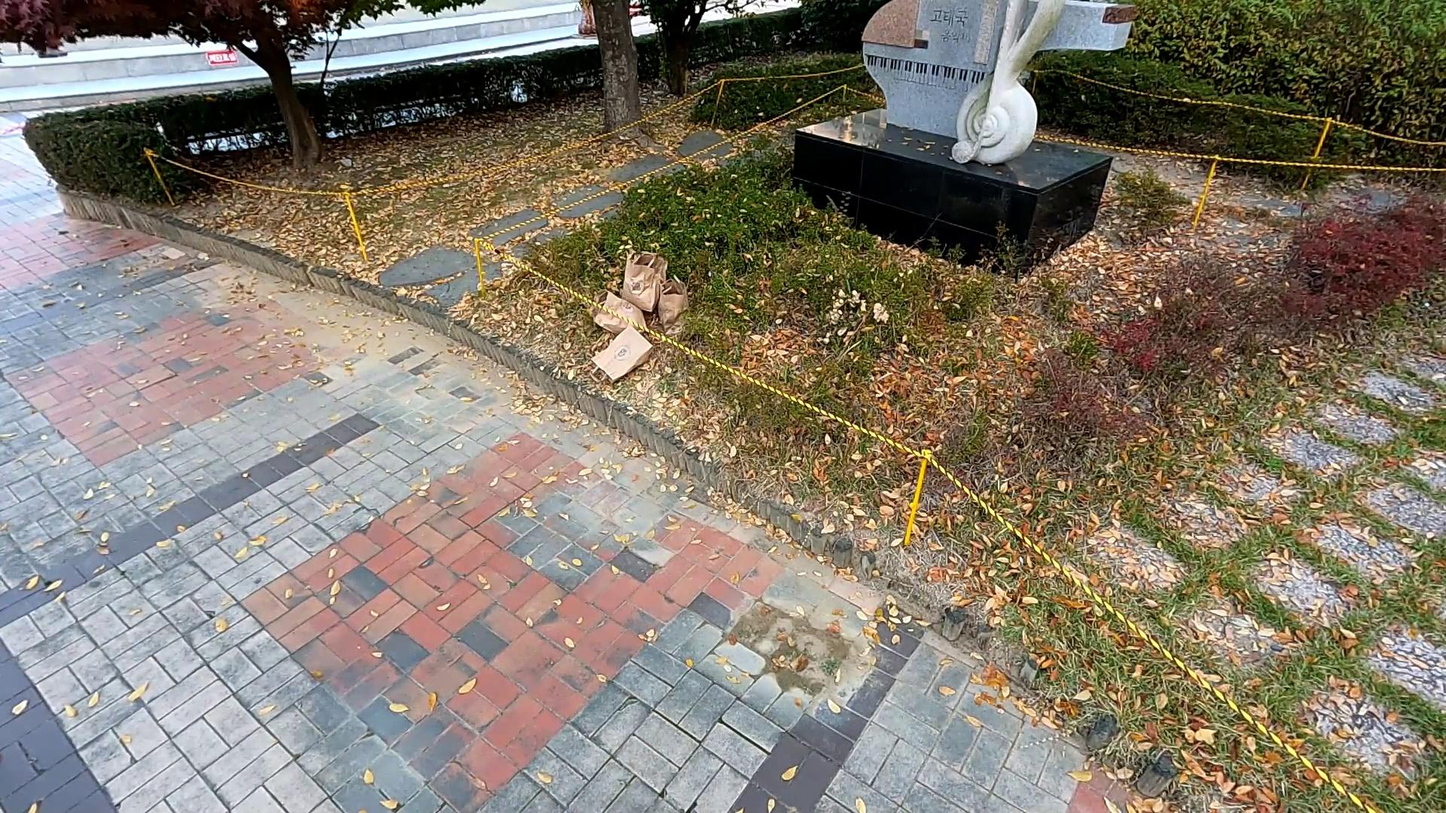trash: (590, 326, 653, 381), (623, 247, 668, 311), (590, 289, 646, 338), (656, 276, 687, 331)
